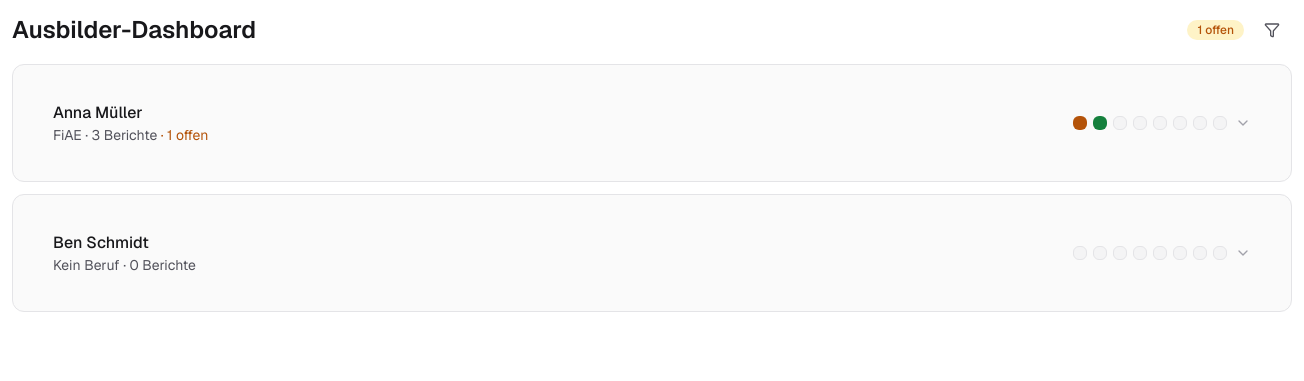
ReviewerDashboardClient › filters by status
Click the button named "Filter ein-/ausblenden" at (1272, 30), box x1=1252 y1=12 x2=1292 y2=48
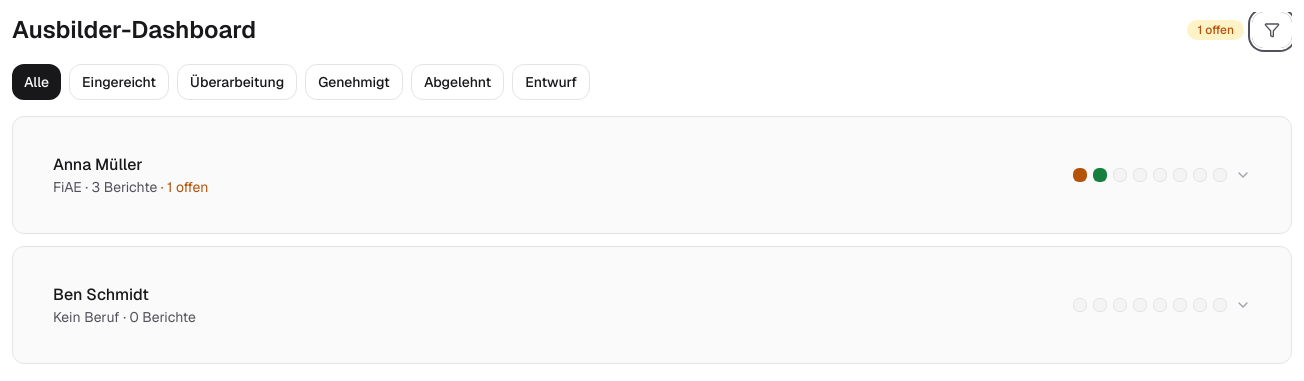
Click the button "Abgelehnt" at (458, 82), box x1=411 y1=64 x2=504 y2=100
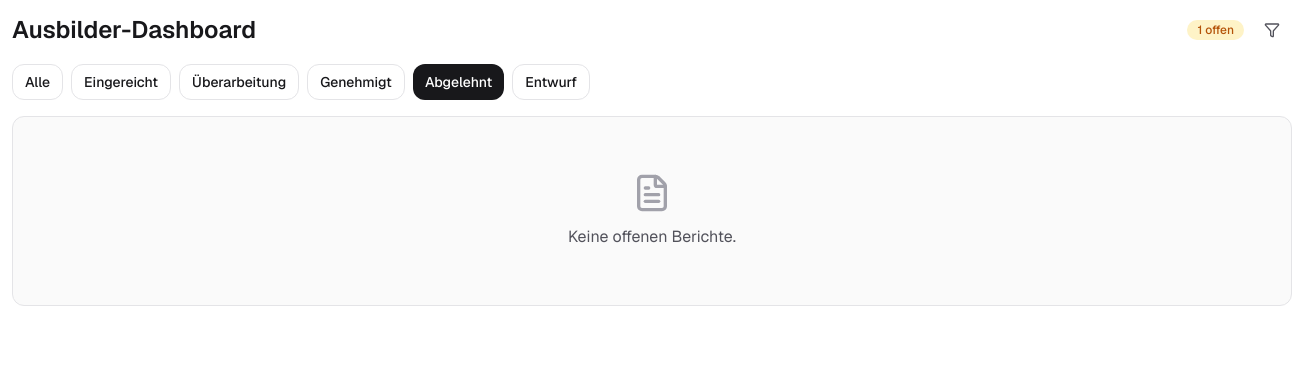
Expected: the button "Anna Müller" is gone
Expected: the button "Ben Schmidt" is gone
